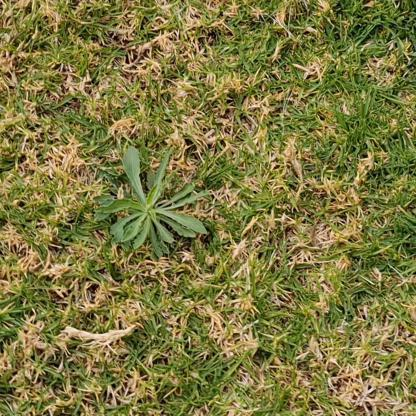Weeds: (94, 145, 208, 259)
